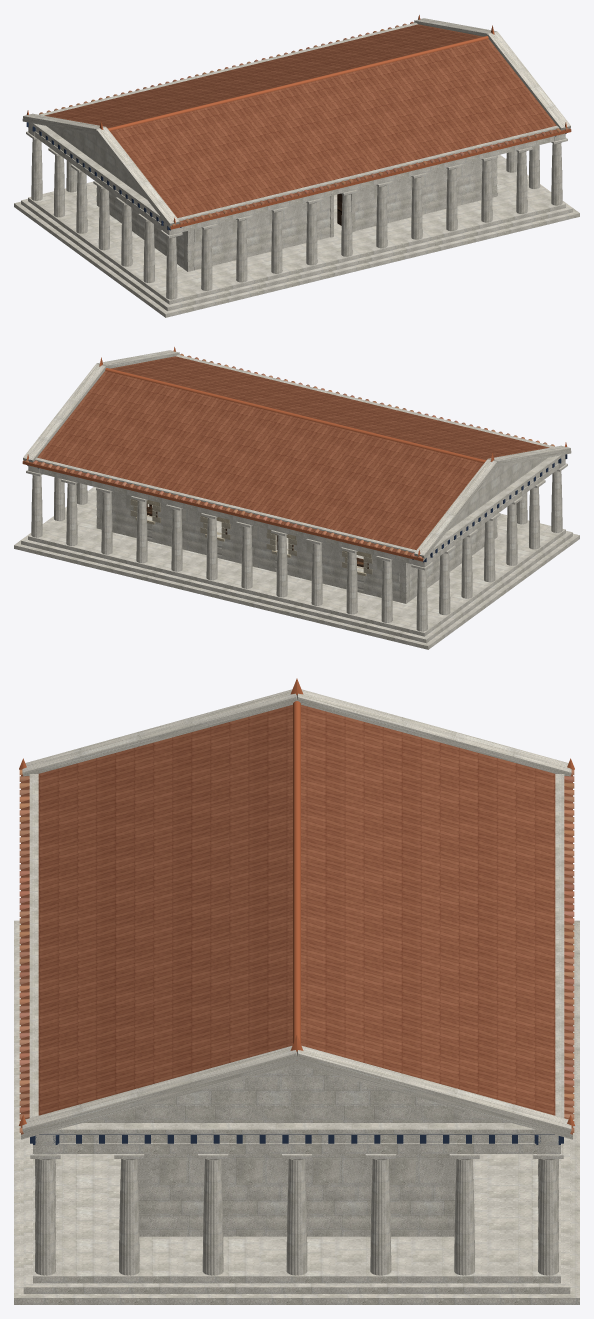
Rendered from academy.glb.
The picture shows the model from 3 angles, top to bottom: view 1: azimuth 30°, elevation 25°; view 2: azimuth 150°, elevation 25°; view 3: azimuth 270°, elevation 25°; orthographic projection. The views are drawn at different scales.
Visible parts, largest first — view 1: part_4, part_11, part_13, part_14; view 2: part_4, part_11, part_13, part_5, part_14; view 3: part_11, part_4, part_14, part_13, part_10.
Boxes of the visible parts, box(x1,y1,x2,y2) form: part_4: box(14, 18, 579, 317); part_11: box(44, 24, 570, 226); part_13: box(26, 15, 571, 229); part_14: box(39, 21, 569, 226); part_4: box(14, 350, 579, 649); part_11: box(23, 356, 549, 558); part_13: box(22, 347, 567, 561); part_5: box(130, 499, 372, 576); part_14: box(24, 353, 554, 558); part_11: box(21, 705, 572, 1134); part_4: box(14, 689, 579, 1304); part_14: box(19, 769, 574, 1132); part_13: box(19, 678, 574, 1125); part_10: box(30, 1134, 563, 1144).
Size of the model in its own units: 13.05 by 4.24 by 8.27.
Materials: 15 (11 with a texture image).
